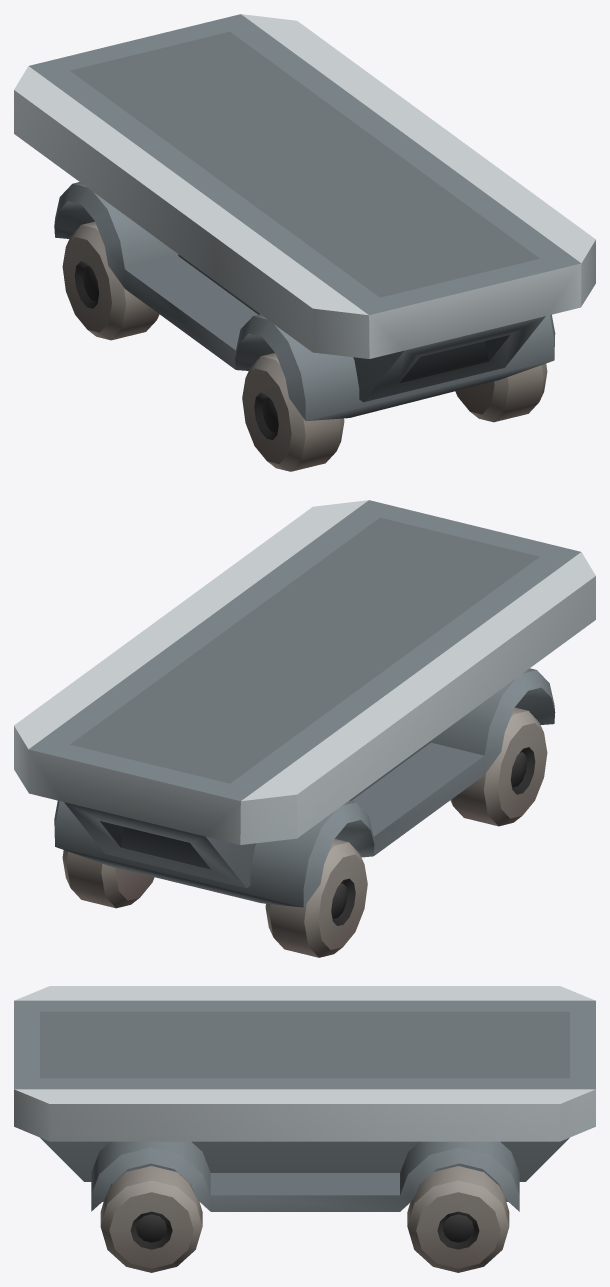
Rendered from spacetruck_trailer.gltf.
The picture shows the model from 3 angles, top to bottom: view 1: azimuth 30°, elevation 25°; view 2: azimuth 150°, elevation 25°; view 3: azimuth 270°, elevation 25°; orthographic projection. The views are drawn at different scales.
Visible parts, largest first — view 1: spacetruck_trailer, spacetruck_trailer_wheel_front_right, spacetruck_trailer_wheel_rear_right, spacetruck_trailer_wheel_front_left; view 2: spacetruck_trailer, spacetruck_trailer_wheel_rear_right, spacetruck_trailer_wheel_front_right, spacetruck_trailer_wheel_rear_left; view 3: spacetruck_trailer, spacetruck_trailer_wheel_front_left, spacetruck_trailer_wheel_rear_left.
Boxes of the visible parts, x1,y1,x2,y2 form: spacetruck_trailer: [14, 14, 595, 420]; spacetruck_trailer_wheel_front_right: [242, 353, 344, 471]; spacetruck_trailer_wheel_rear_right: [62, 221, 159, 340]; spacetruck_trailer_wheel_front_left: [455, 363, 547, 422]; spacetruck_trailer: [14, 500, 595, 907]; spacetruck_trailer_wheel_rear_right: [265, 839, 367, 957]; spacetruck_trailer_wheel_front_right: [450, 707, 547, 826]; spacetruck_trailer_wheel_rear_left: [62, 850, 154, 908]; spacetruck_trailer: [14, 986, 595, 1211]; spacetruck_trailer_wheel_front_left: [100, 1166, 202, 1272]; spacetruck_trailer_wheel_rear_left: [407, 1166, 509, 1272].
Bounding box in the file's own units: 0.48 × 0.3382 × 1.
Materials: 1 (1 with a texture image).
